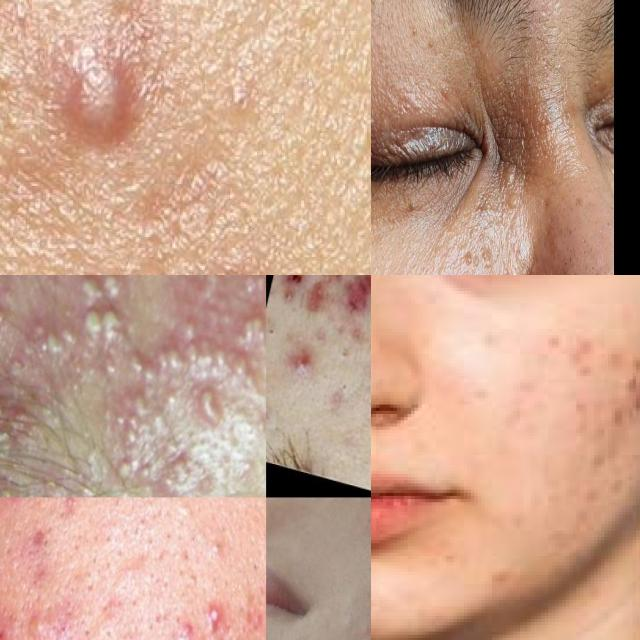acne_scars: (294, 275, 333, 328), (341, 275, 371, 325)
comedone: (197, 518, 246, 569), (322, 365, 364, 410), (324, 323, 362, 362), (162, 498, 198, 536), (266, 309, 286, 354), (562, 215, 578, 259), (254, 536, 266, 584)
flat_wart: (452, 239, 506, 275)
papule: (201, 585, 238, 640), (16, 604, 55, 640)
pustule: (98, 382, 171, 487), (138, 438, 239, 498), (60, 275, 140, 347), (8, 314, 84, 388), (213, 275, 266, 348), (126, 336, 187, 396), (0, 394, 39, 474), (193, 338, 254, 388), (180, 373, 230, 419)
syringoma: (498, 117, 528, 229)
